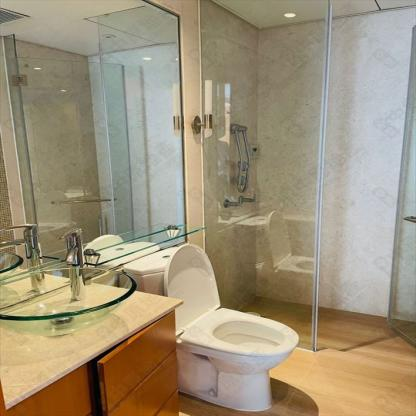Faucet: (5, 224, 90, 266)
Toilet: (118, 240, 298, 412)
Toilet Sink: (0, 267, 135, 336)
Water Cubicle: (200, 0, 415, 351)
